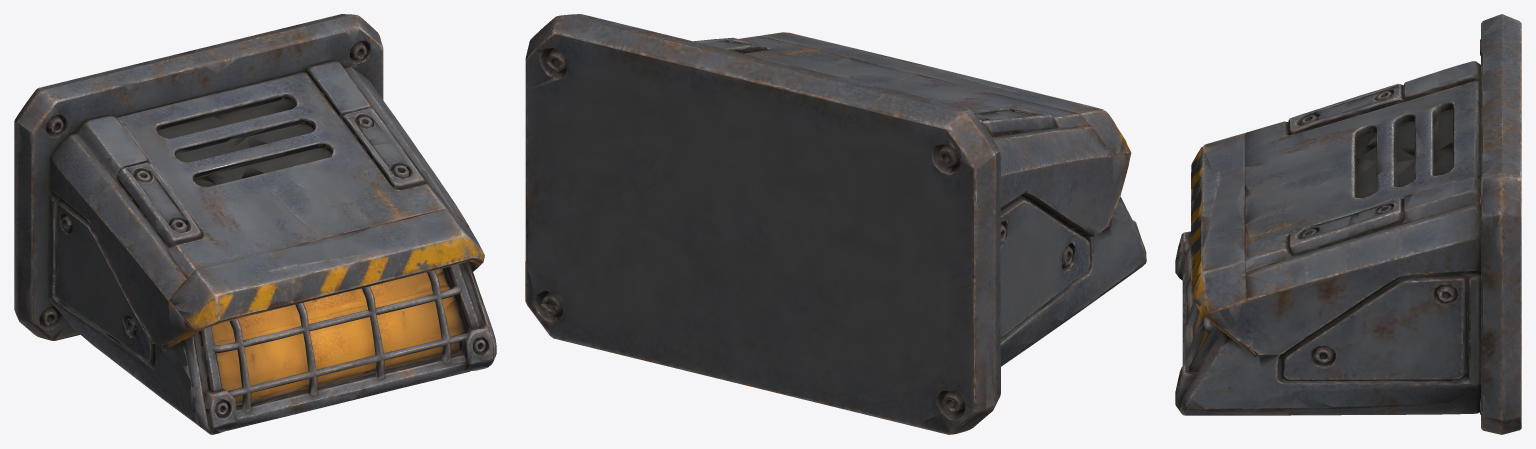
Rendered from UtilityLamp.glb.
The picture shows the model from 3 angles, left to right: view 1: azimuth 30°, elevation 25°; view 2: azimuth 150°, elevation 25°; view 3: azimuth 270°, elevation 25°; orthographic projection. The views are drawn at different scales.
Parts seen in each view (by area): view 1: tripo_node_37049ab2-1968-430e-af00-11aa15fd1ef0; view 2: tripo_node_37049ab2-1968-430e-af00-11aa15fd1ef0; view 3: tripo_node_37049ab2-1968-430e-af00-11aa15fd1ef0.
Part boxes in pixels (x1,y1,x2,y2): tripo_node_37049ab2-1968-430e-af00-11aa15fd1ef0: (14,14,496,434); tripo_node_37049ab2-1968-430e-af00-11aa15fd1ef0: (525,14,1146,434); tripo_node_37049ab2-1968-430e-af00-11aa15fd1ef0: (1175,14,1521,434).
Size of the model in its own units: 0.9814 by 0.645 by 0.7733.
Materials: 1 (1 with a texture image).
